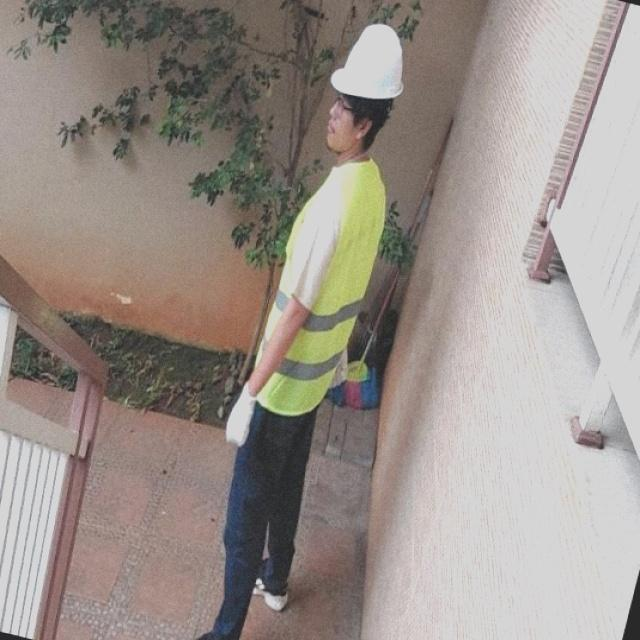helmet: (324, 20, 414, 101)
safety_vest: (238, 150, 394, 425)
